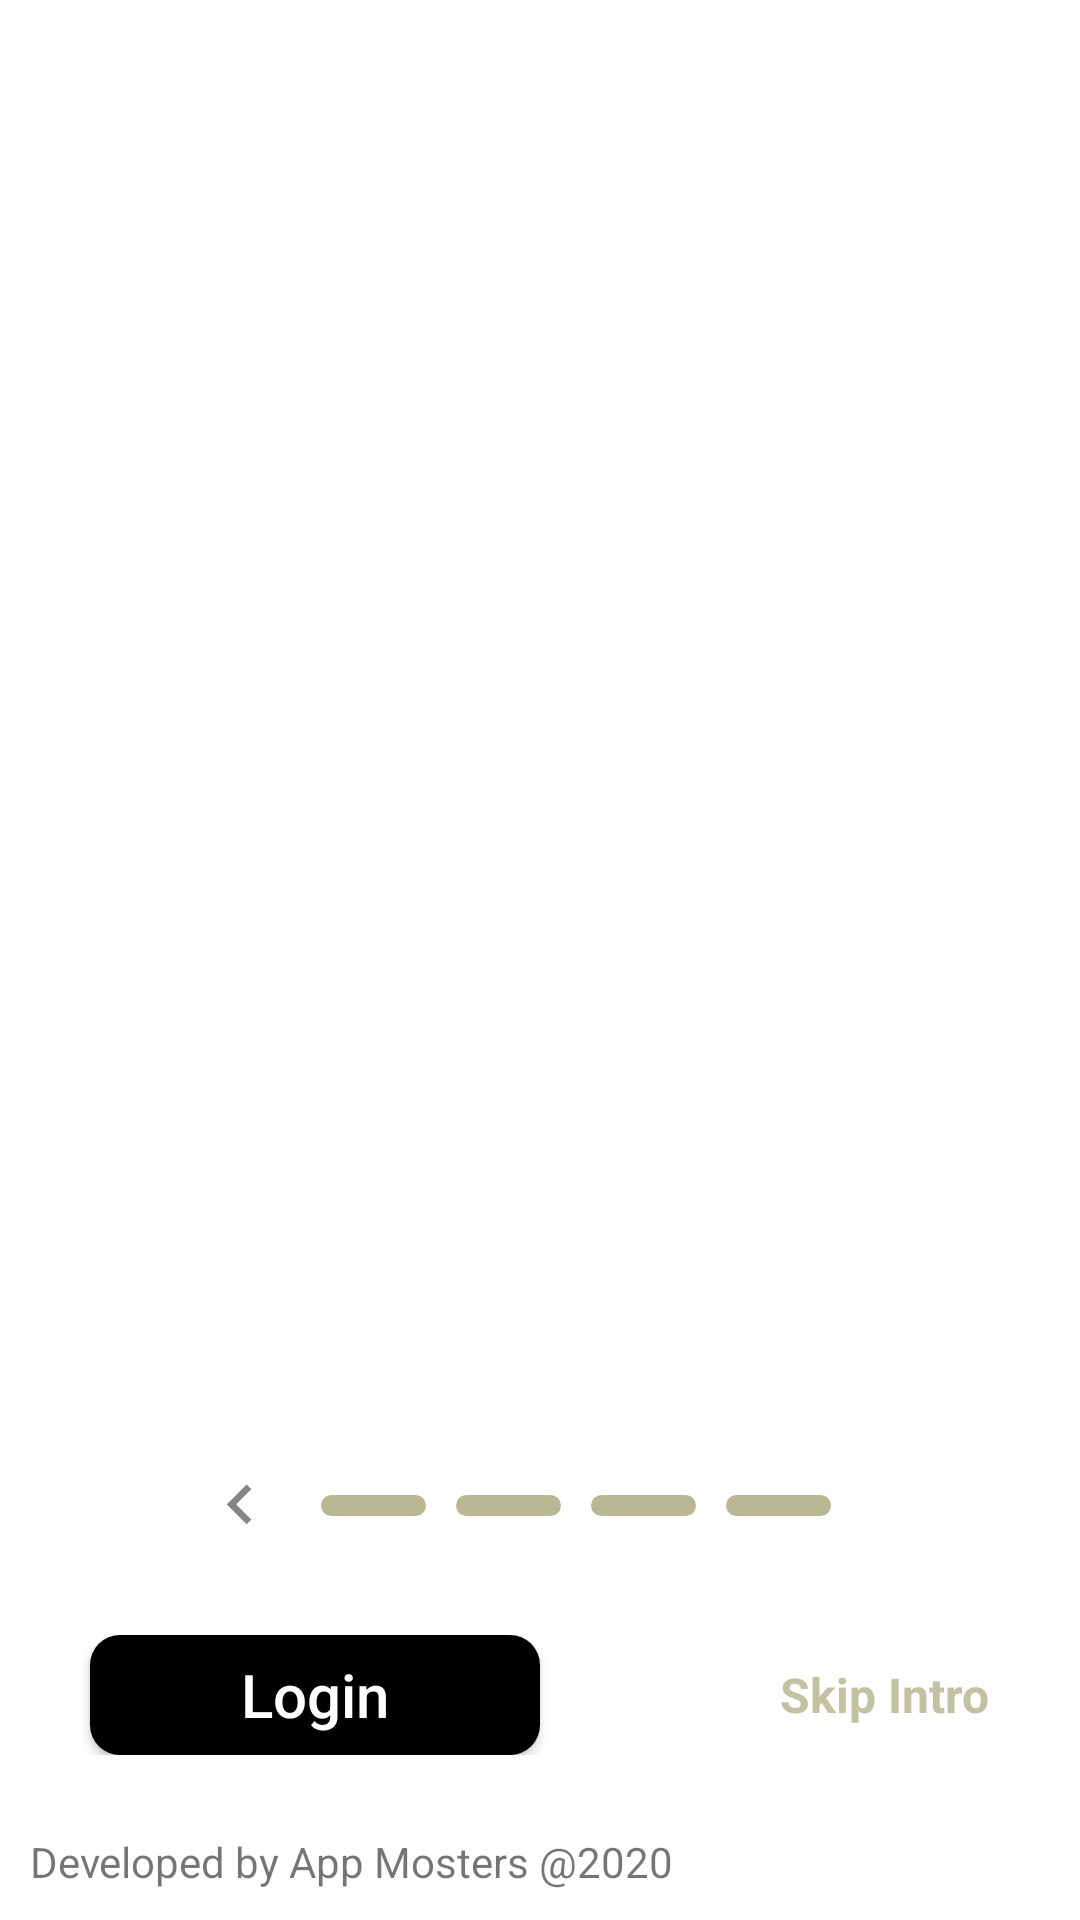

Icons on this 1080 × 1920 Android screen, each with its box as (x1, y1, x2, y2):
leftarrow: (227, 1484, 251, 1524)
